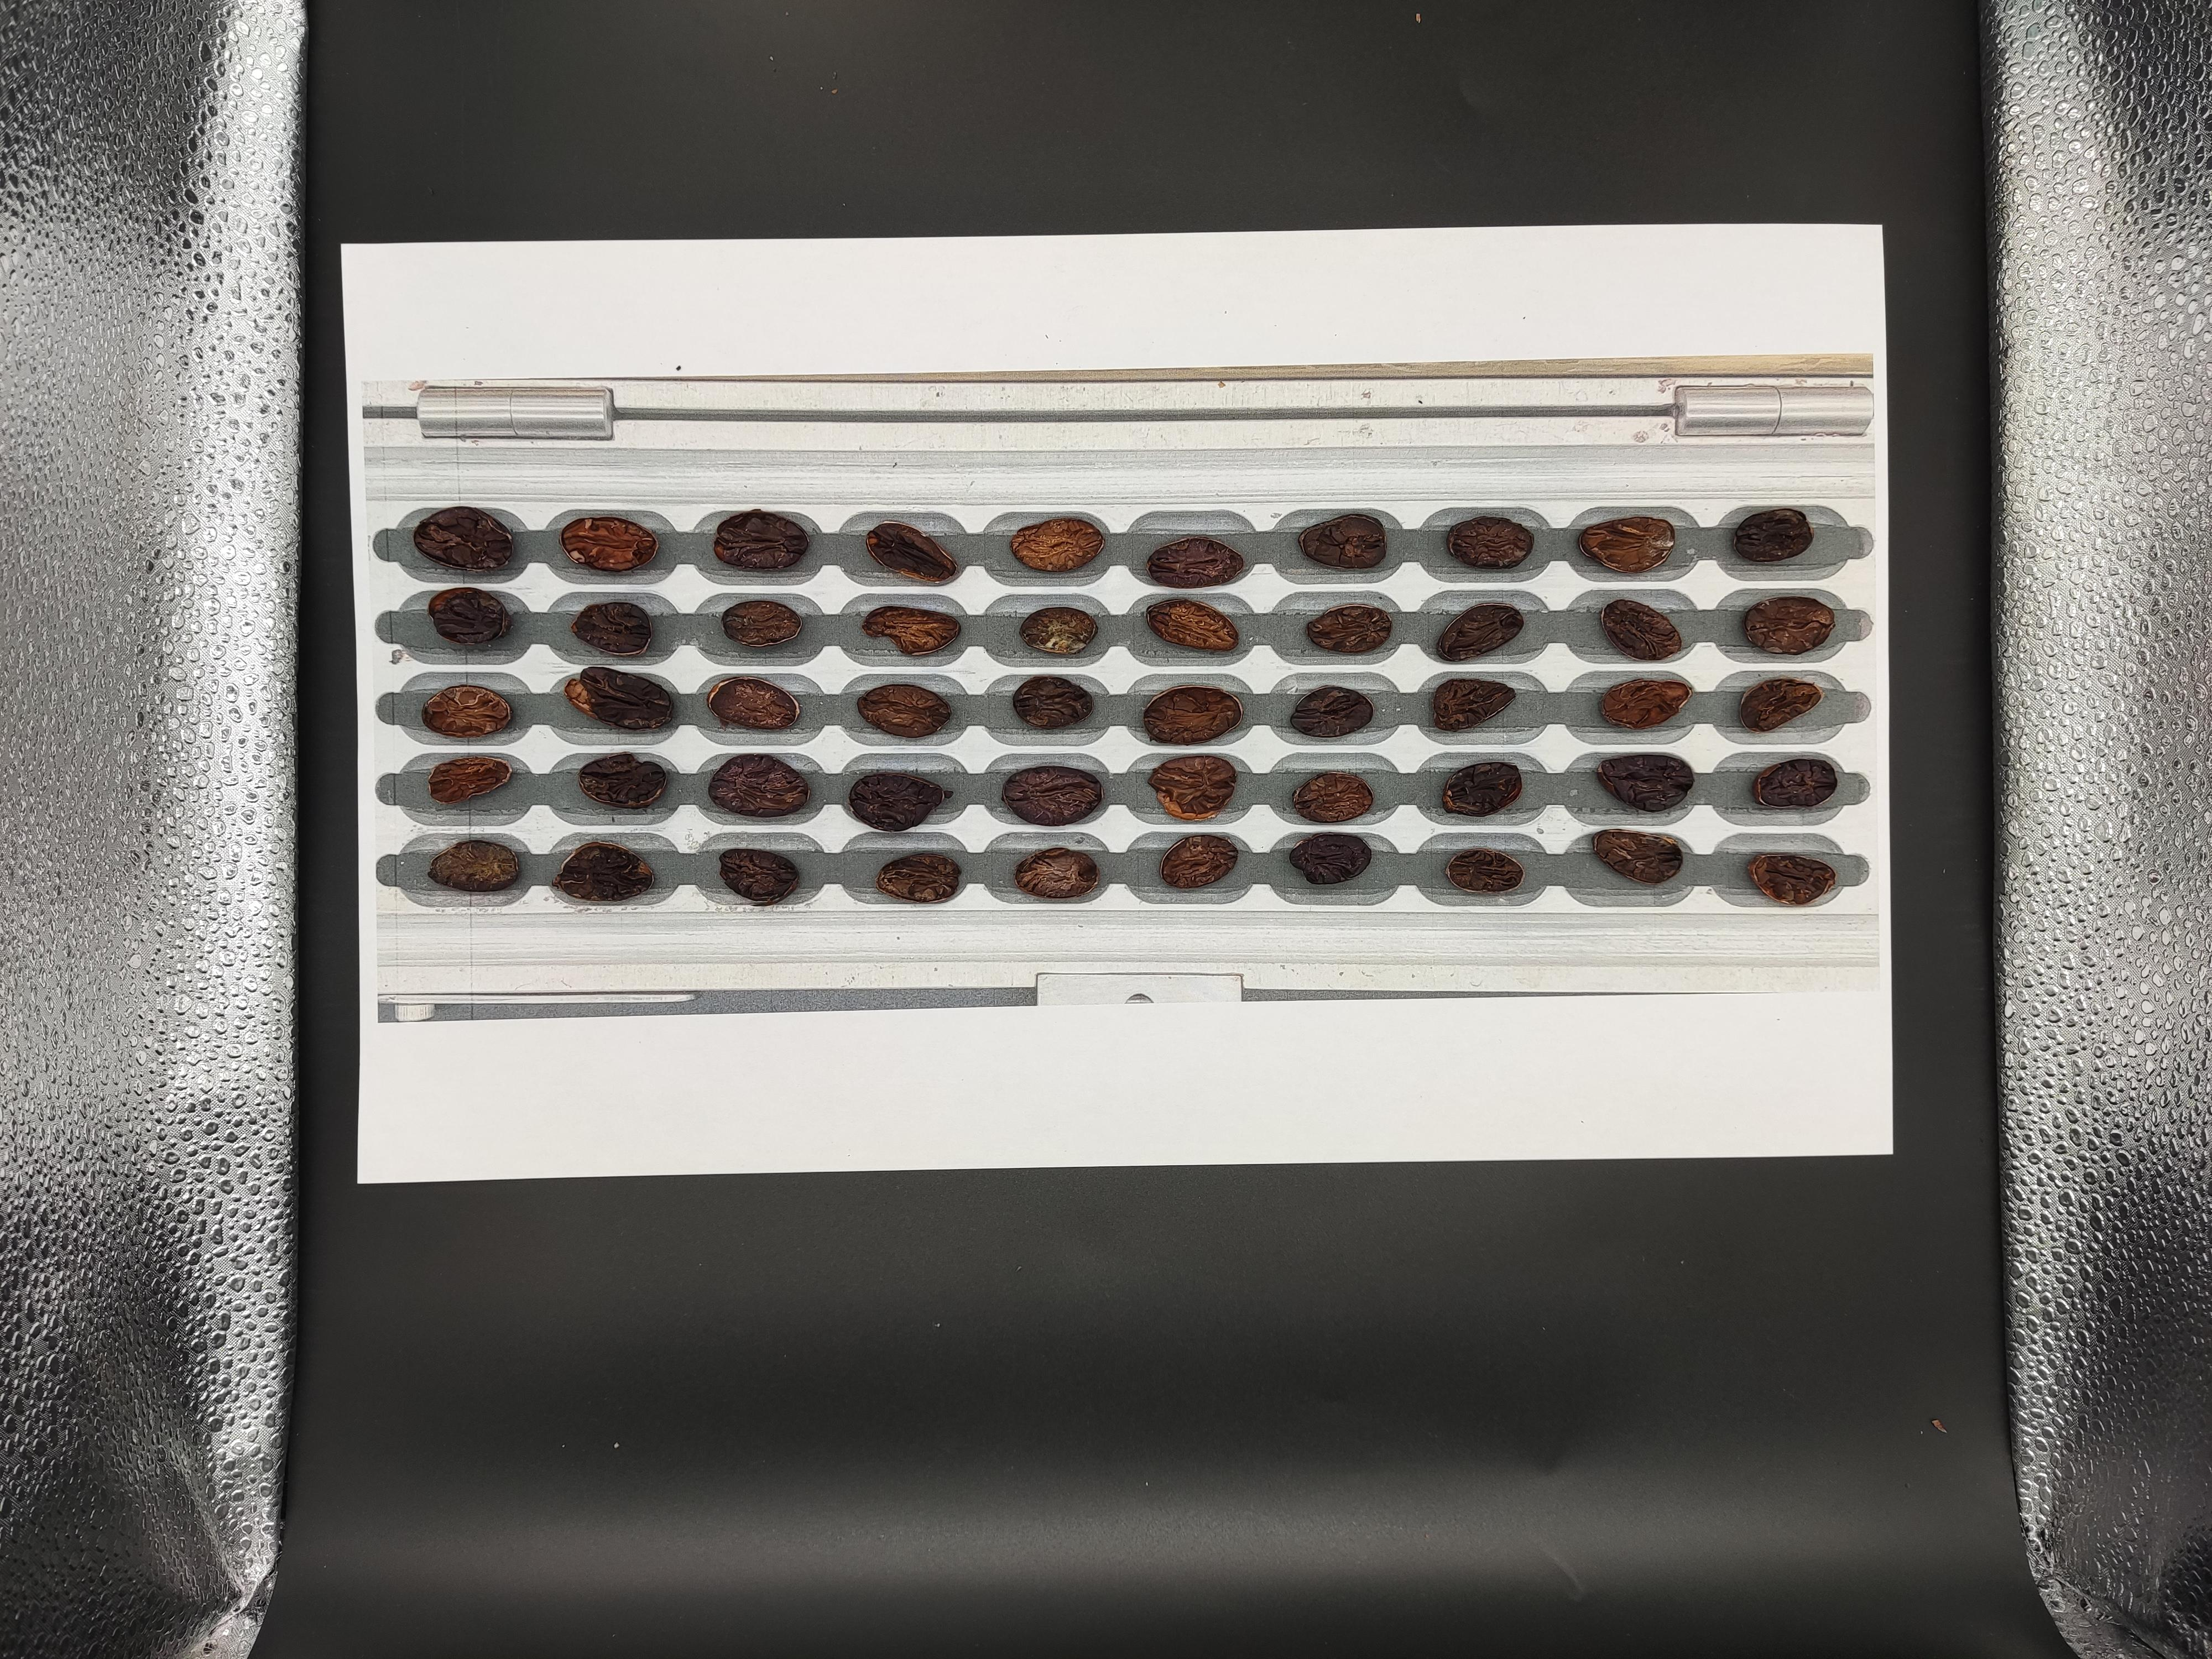Brown - G1: (583, 1195, 636, 1236), (282, 1072, 340, 1107), (444, 1244, 496, 1279), (216, 1194, 265, 1229), (665, 1117, 716, 1148)
Brown - G2: (212, 1157, 268, 1192), (728, 1155, 784, 1190), (587, 1234, 639, 1270), (585, 1115, 639, 1148), (815, 1155, 869, 1188), (890, 1244, 944, 1277), (439, 1119, 495, 1150)
Brown - G3: (583, 1159, 639, 1195), (887, 1150, 935, 1192), (813, 1114, 864, 1154), (810, 1232, 867, 1267), (890, 1114, 944, 1148), (435, 1159, 491, 1192), (514, 1073, 568, 1107), (737, 1072, 789, 1105), (517, 1241, 566, 1274), (658, 1202, 707, 1236)
Brown - G4: (368, 1115, 413, 1145)
Insect-damaged: (218, 1237, 272, 1272)
Mouldy: (805, 1073, 862, 1107), (519, 1117, 566, 1148)
Partly Purple - G1: (294, 1194, 345, 1229), (291, 1115, 338, 1150)
Partly Purple - G2: (361, 1194, 418, 1232), (362, 1068, 418, 1105)
Partly Purple - G3: (587, 1084, 643, 1115)
Partly Purple - G4: (361, 1155, 413, 1188)
Total Purple - G3: (432, 1202, 489, 1239), (512, 1199, 568, 1236), (894, 1195, 942, 1232), (658, 1236, 704, 1269)
Very Dark Brown - G1: (286, 1150, 350, 1187), (282, 1239, 340, 1277), (216, 1110, 265, 1145), (737, 1241, 786, 1272)
Very Dark Brown - G2: (207, 1066, 268, 1107), (812, 1192, 871, 1230), (439, 1075, 493, 1112), (885, 1066, 935, 1103), (735, 1197, 786, 1232), (517, 1154, 566, 1187), (366, 1243, 413, 1276)
Very Dark Brown - G3: (730, 1117, 784, 1154), (662, 1072, 716, 1107), (658, 1159, 707, 1192)
